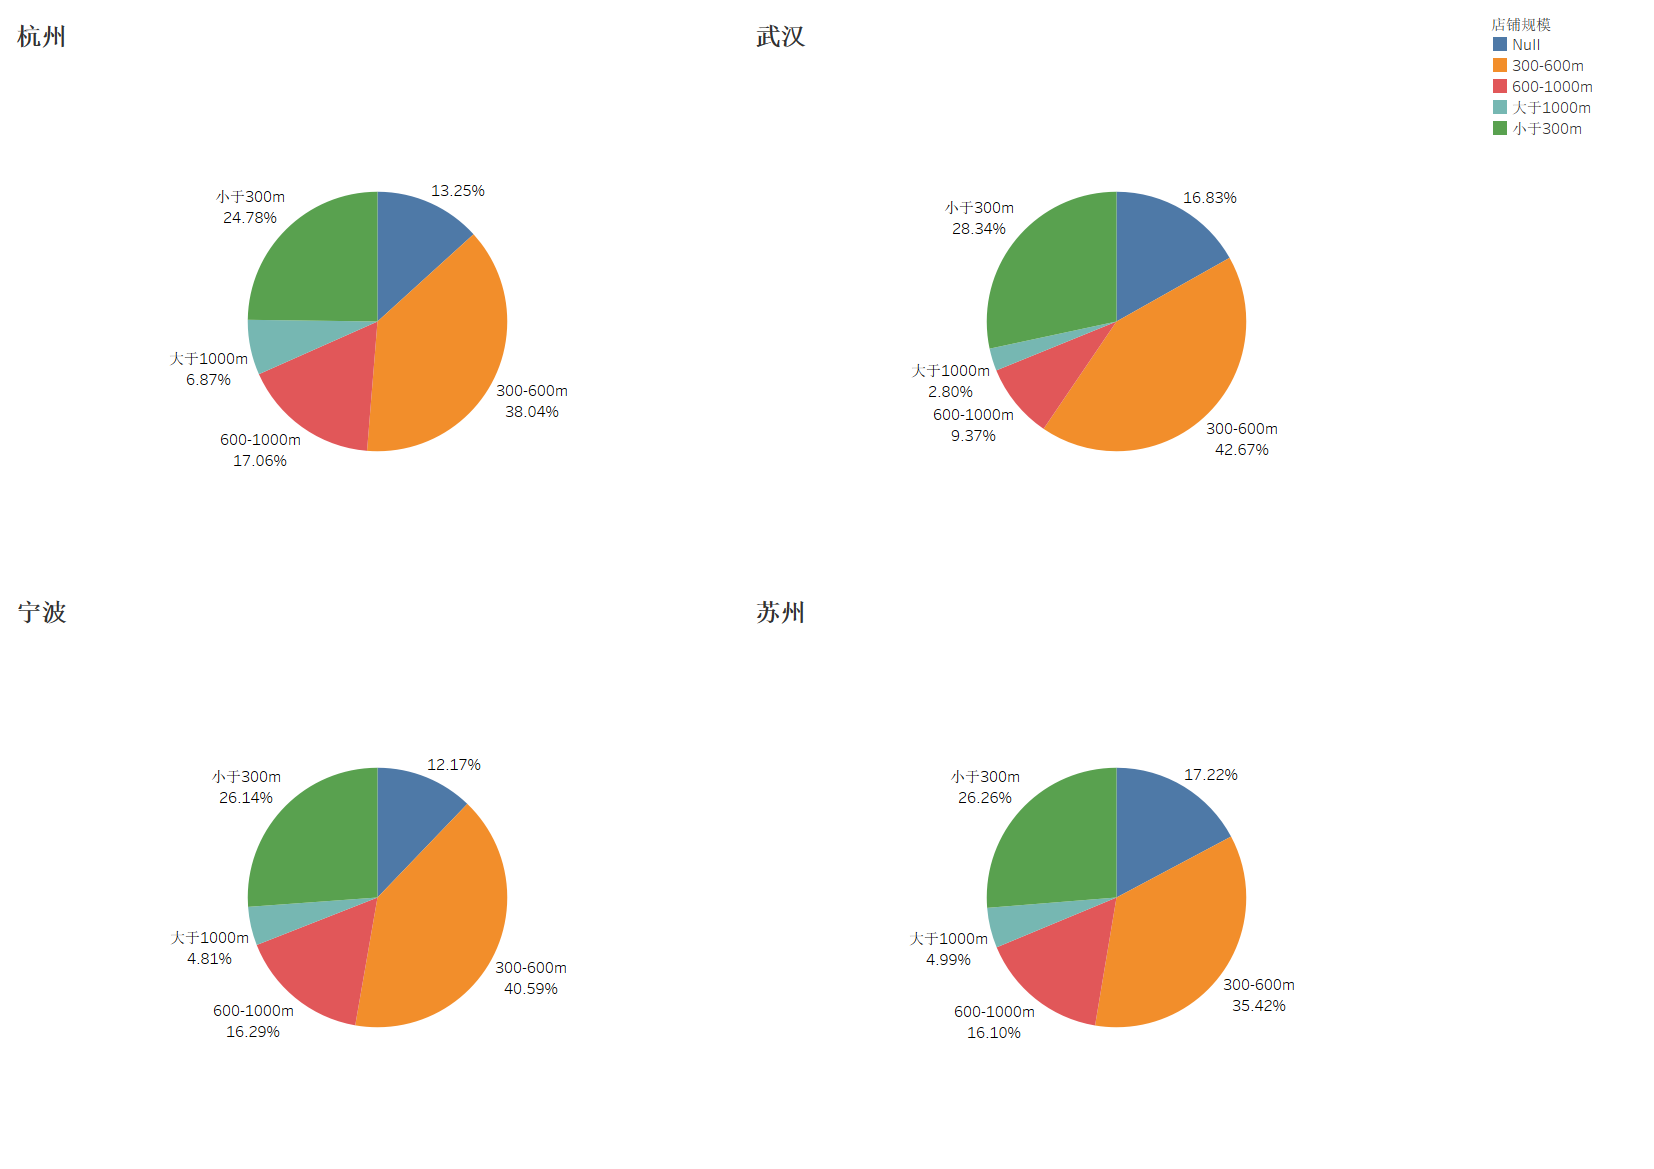

The page's visual inventory and layout, read from the dashboard file:
{"tool":"tableau","page":{"name":"店铺规模","canvas":[1654,1169],"ordinal":2},"visuals":[{"type":"worksheet","title":"用户结构分布-店铺规模-杭州","mark":"Pie","box":[8,8,739,576.5]},{"type":"worksheet","title":"用户结构分布-店铺规模-武汉","mark":"Pie","box":[747,8,739,576.5]},{"type":"legend","title":"用户结构分布-店铺规模-武汉","param":"[federated.0kt5cqc19nmgk716i0vj00nlfy2w].[none:店铺规模:nk]","box":[1486,8,160,135]},{"type":"worksheet","title":"用户结构分布-店铺规模-宁波","mark":"Pie","box":[8,584.5,739,576.5]},{"type":"worksheet","title":"用户结构分布-店铺规模-苏州","mark":"Pie","box":[747,584.5,739,576.5]}]}

Visuals, with their boxes in screenshot pixels (x1, y1, x2, y2), scaled from the page's 1654x1169 canvas onto the 1654x1169 screenshot:
"用户结构分布-店铺规模-杭州" worksheet (Pie marks): left=8, top=8, right=747, bottom=584
"用户结构分布-店铺规模-武汉" worksheet (Pie marks): left=747, top=8, right=1486, bottom=584
"用户结构分布-店铺规模-武汉" legend: left=1486, top=8, right=1646, bottom=143
"用户结构分布-店铺规模-宁波" worksheet (Pie marks): left=8, top=584, right=747, bottom=1161
"用户结构分布-店铺规模-苏州" worksheet (Pie marks): left=747, top=584, right=1486, bottom=1161
